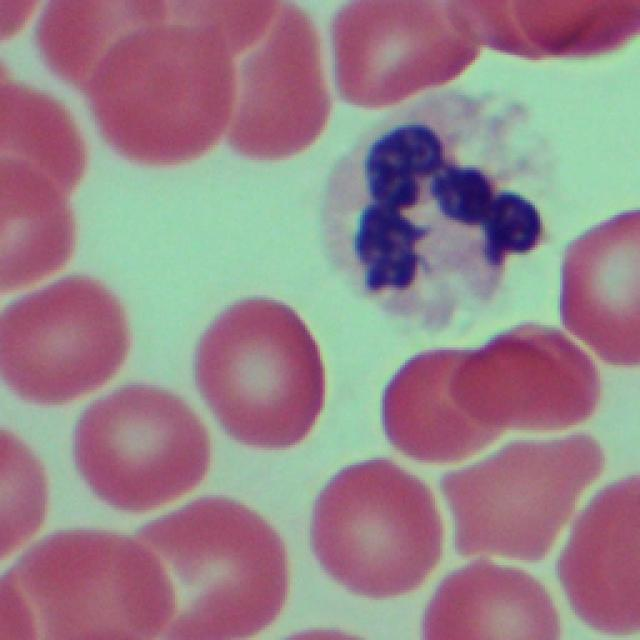RBC: (80, 0, 226, 169), (138, 481, 289, 638), (195, 286, 328, 458), (302, 453, 435, 606), (207, 0, 327, 163), (68, 378, 201, 519), (472, 319, 598, 462), (316, 1, 475, 113), (0, 272, 122, 415), (370, 344, 499, 472), (554, 201, 637, 369), (560, 471, 639, 636), (418, 562, 557, 640), (0, 71, 90, 186), (0, 153, 77, 287), (0, 415, 44, 573)
WBC: (324, 96, 561, 332)
